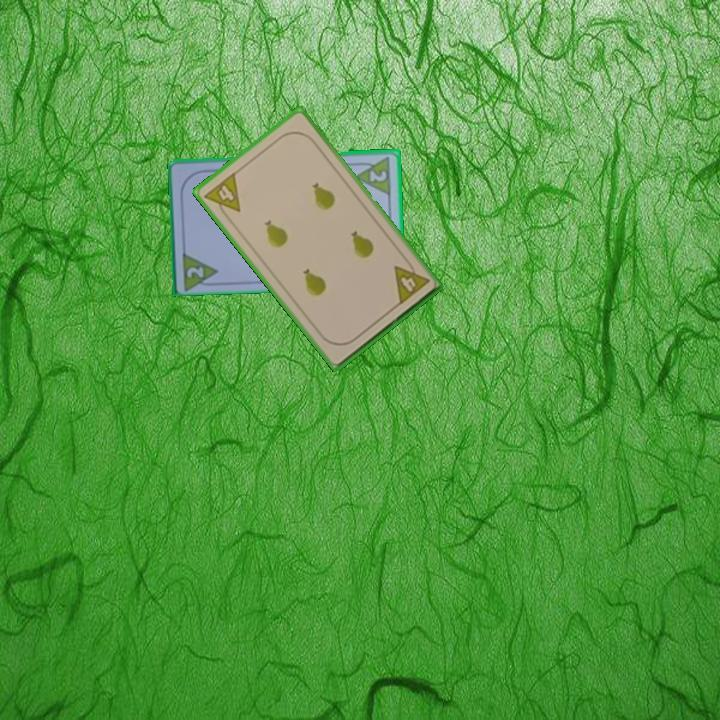2p: (352, 153, 394, 197), (183, 263, 206, 281)
4p: (200, 169, 243, 223), (390, 255, 432, 308)
